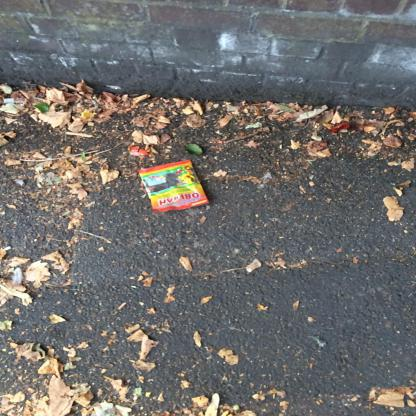plastik: (137, 160, 212, 213)
